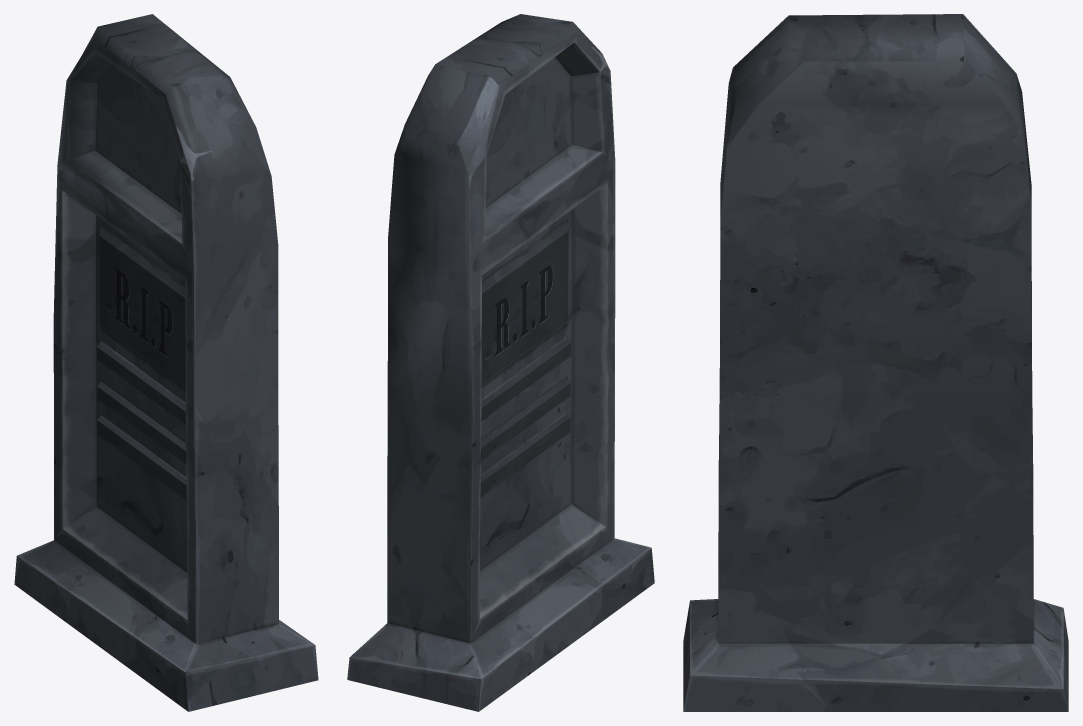
The model's file is tombstone1_intact.FBX.
3 views of the same model, side by side, from view 1: azimuth 30°, elevation 25°; view 2: azimuth 150°, elevation 25°; view 3: azimuth 270°, elevation 25° (orthographic). The views are drawn at different scales.
Parts seen in each view (by area): view 1: Tombstone1; view 2: Tombstone1; view 3: Tombstone1.
Boxes of the visible parts, box(x1,y1,x2,y2) form: Tombstone1: box(14, 14, 318, 711); Tombstone1: box(347, 14, 654, 711); Tombstone1: box(683, 14, 1068, 711).
Bounding box in the file's own units: 17.86 × 41.38 × 76.64.
1 material, 1 textured.
